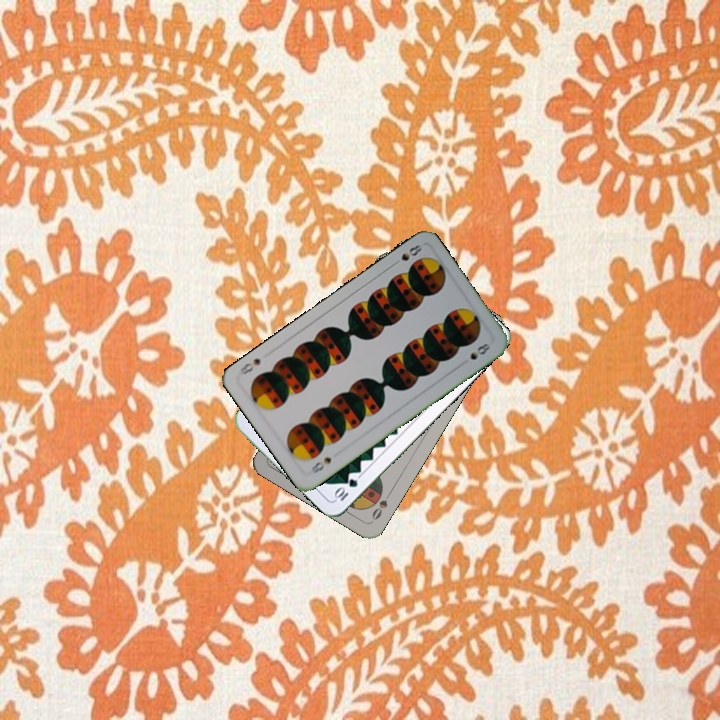G10: (330, 474, 360, 504)
S8: (388, 240, 425, 269), (306, 453, 334, 477)
SO: (368, 488, 394, 524)
